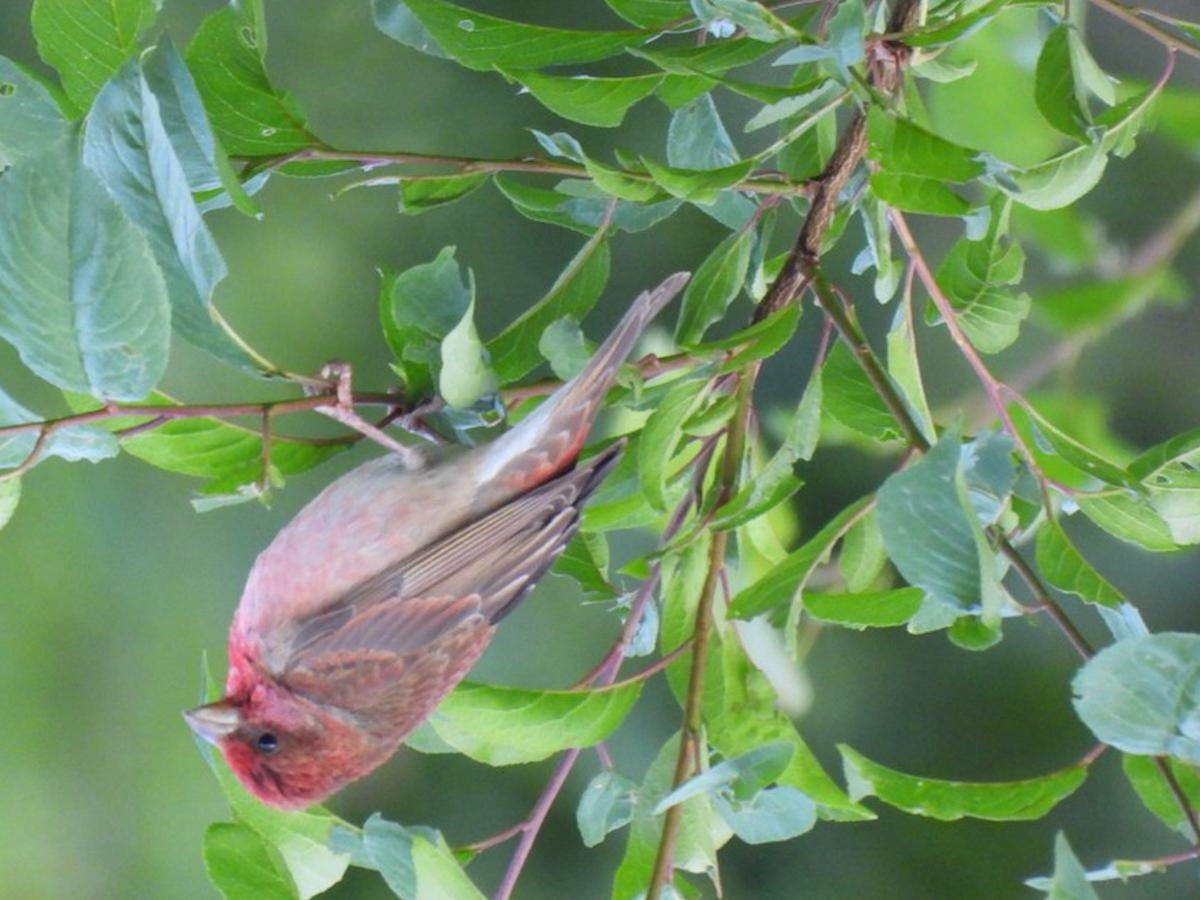rosefinch: (198, 355, 629, 804)
